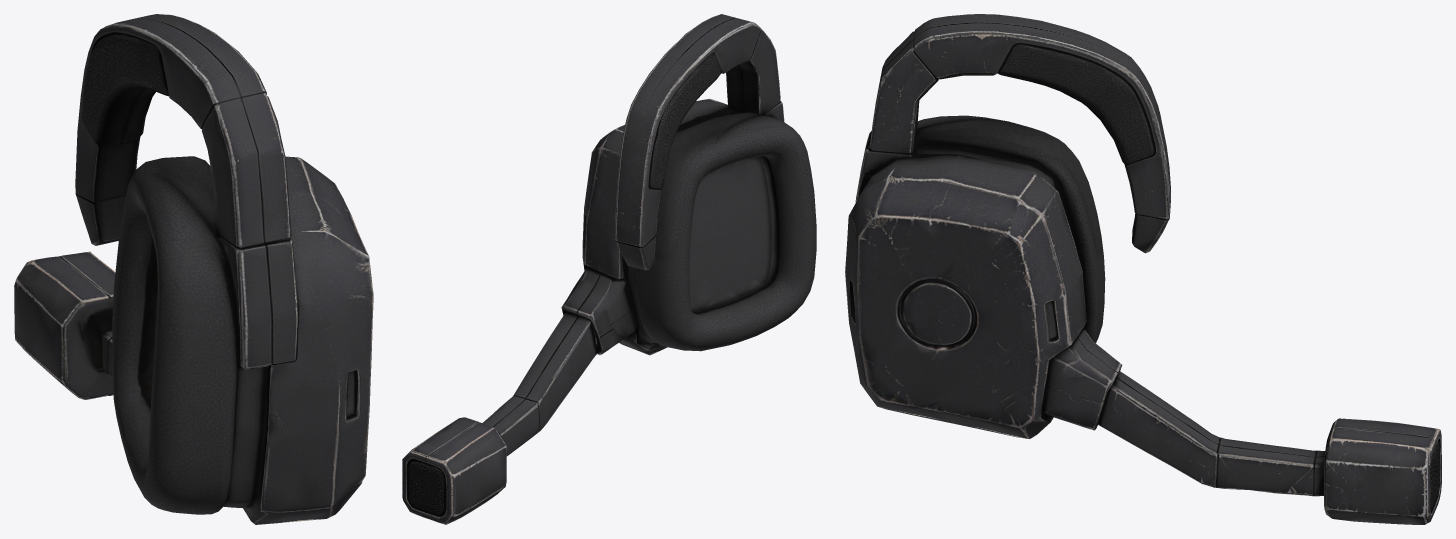
File: PROP-RADIO-HEADSET.glb
3 views of the same model, side by side, from view 1: azimuth 30°, elevation 25°; view 2: azimuth 150°, elevation 25°; view 3: azimuth 270°, elevation 25° (orthographic). The views are drawn at different scales.
Visible parts, largest first — view 1: tripo_node_ce2057ec-310e-4711-a656-ab74a7d5f73f; view 2: tripo_node_ce2057ec-310e-4711-a656-ab74a7d5f73f; view 3: tripo_node_ce2057ec-310e-4711-a656-ab74a7d5f73f.
Part boxes in pixels (<box>): tripo_node_ce2057ec-310e-4711-a656-ab74a7d5f73f: <box>14,14,373,524</box>; tripo_node_ce2057ec-310e-4711-a656-ab74a7d5f73f: <box>402,14,816,524</box>; tripo_node_ce2057ec-310e-4711-a656-ab74a7d5f73f: <box>845,14,1441,524</box>.
Bounding box in the file's own units: 0.4318 × 0.8127 × 1.
1 material, 1 textured.
